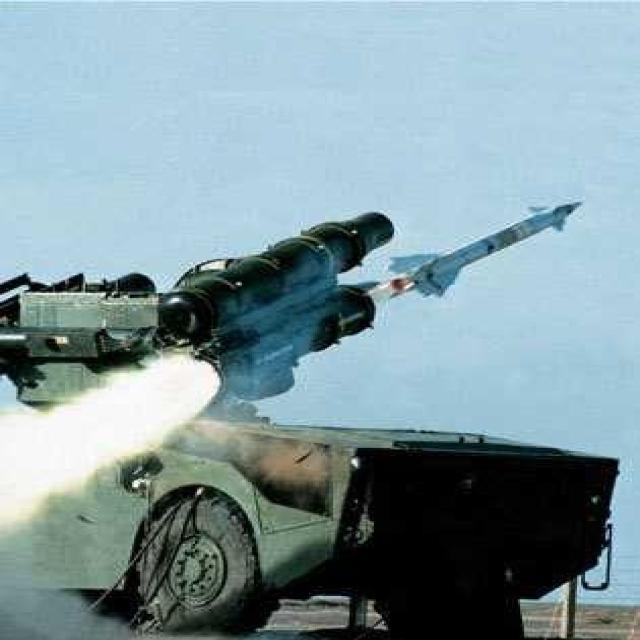missile: (388, 191, 596, 308)
